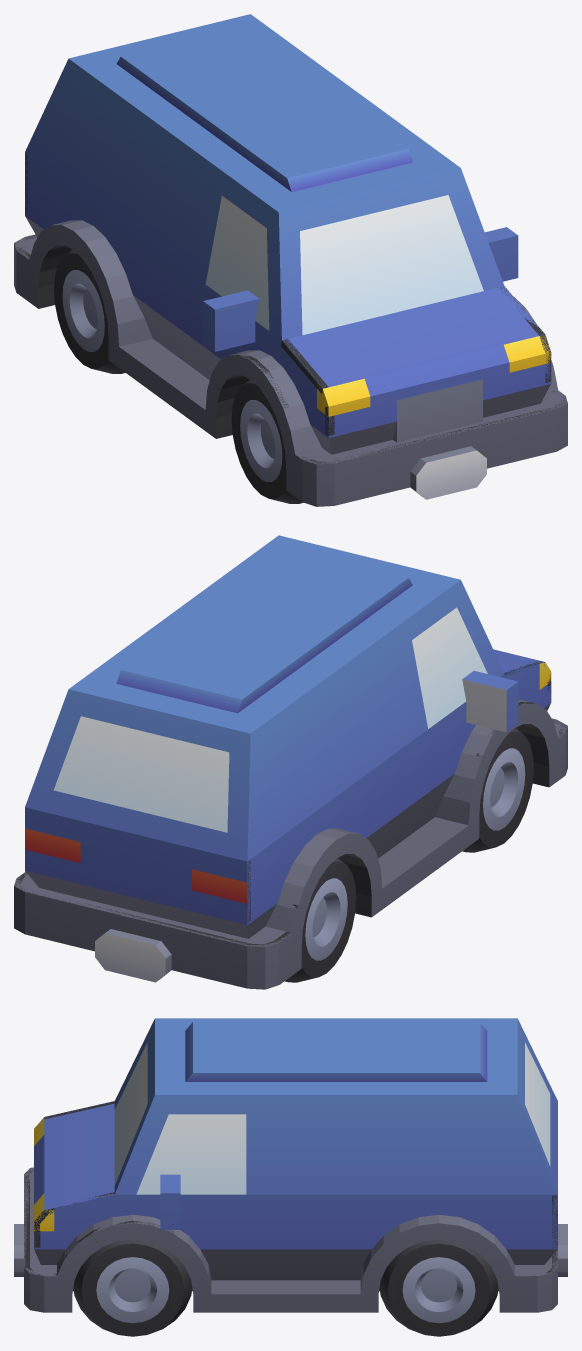
Rendered from ToyVan.fbx.
3 renders of one model, top to bottom at view 1: azimuth 30°, elevation 25°; view 2: azimuth 150°, elevation 25°; view 3: azimuth 270°, elevation 25°, orthographic. The views are drawn at different scales.
Parts seen in each view (by area): view 1: ToyVan_Body, ToyVan_Part_FrontBumper, ToyVan_Part_Hood, ToyVan_Part_Grille, Wheel_FR, Wheel_RR, ToyVan_Part_FenderRight, ToyVan_Part_DoorRight, ToyVan_Part_RearBumper; view 2: ToyVan_Body, ToyVan_Part_Trunk, ToyVan_Part_RearBumper, Wheel_RR, Wheel_FR, ToyVan_Part_DoorRight, ToyVan_Part_FenderRight, ToyVan_Part_FrontBumper, ToyVan_Part_Hood; view 3: ToyVan_Body, Wheel_FL, Wheel_RL, ToyVan_Part_Hood, ToyVan_Part_FenderLeft, ToyVan_Part_DoorLeft, ToyVan_Part_RearBumper, ToyVan_Part_FrontBumper, ToyVan_Part_Grille, ToyVan_Part_Trunk.
Part boxes in pixels (x1,y1,x2,y2): ToyVan_Body: [14, 14, 567, 499]; ToyVan_Part_FrontBumper: [281, 367, 567, 506]; ToyVan_Part_Hood: [283, 291, 544, 388]; ToyVan_Part_Grille: [328, 335, 551, 434]; Wheel_FR: [231, 379, 303, 503]; Wheel_RR: [54, 249, 125, 373]; ToyVan_Part_FenderRight: [217, 321, 328, 434]; ToyVan_Part_DoorRight: [189, 282, 236, 362]; ToyVan_Part_RearBumper: [14, 214, 43, 308]; ToyVan_Body: [14, 535, 567, 982]; ToyVan_Part_Trunk: [25, 790, 247, 922]; ToyVan_Part_RearBumper: [14, 871, 303, 989]; Wheel_RR: [285, 858, 356, 982]; Wheel_FR: [462, 728, 533, 852]; ToyVan_Part_DoorRight: [409, 702, 465, 813]; ToyVan_Part_FenderRight: [462, 662, 551, 784]; ToyVan_Part_FrontBumper: [521, 703, 567, 787]; ToyVan_Part_Hood: [493, 649, 543, 672]; ToyVan_Body: [14, 1018, 567, 1312]; Wheel_FL: [73, 1239, 192, 1336]; Wheel_RL: [379, 1239, 498, 1336]; ToyVan_Part_Hood: [44, 1101, 114, 1209]; ToyVan_Part_FenderLeft: [34, 1194, 190, 1266]; ToyVan_Part_DoorLeft: [181, 1194, 274, 1256]; ToyVan_Part_RearBumper: [495, 1247, 557, 1312]; ToyVan_Part_FrontBumper: [24, 1247, 80, 1312]; ToyVan_Part_Grille: [34, 1129, 44, 1221]; ToyVan_Part_Trunk: [550, 1094, 557, 1193].
Bounding box in the file's own units: 1.5 × 1.35 × 2.75.
Materials: 3 (3 with a texture image).
